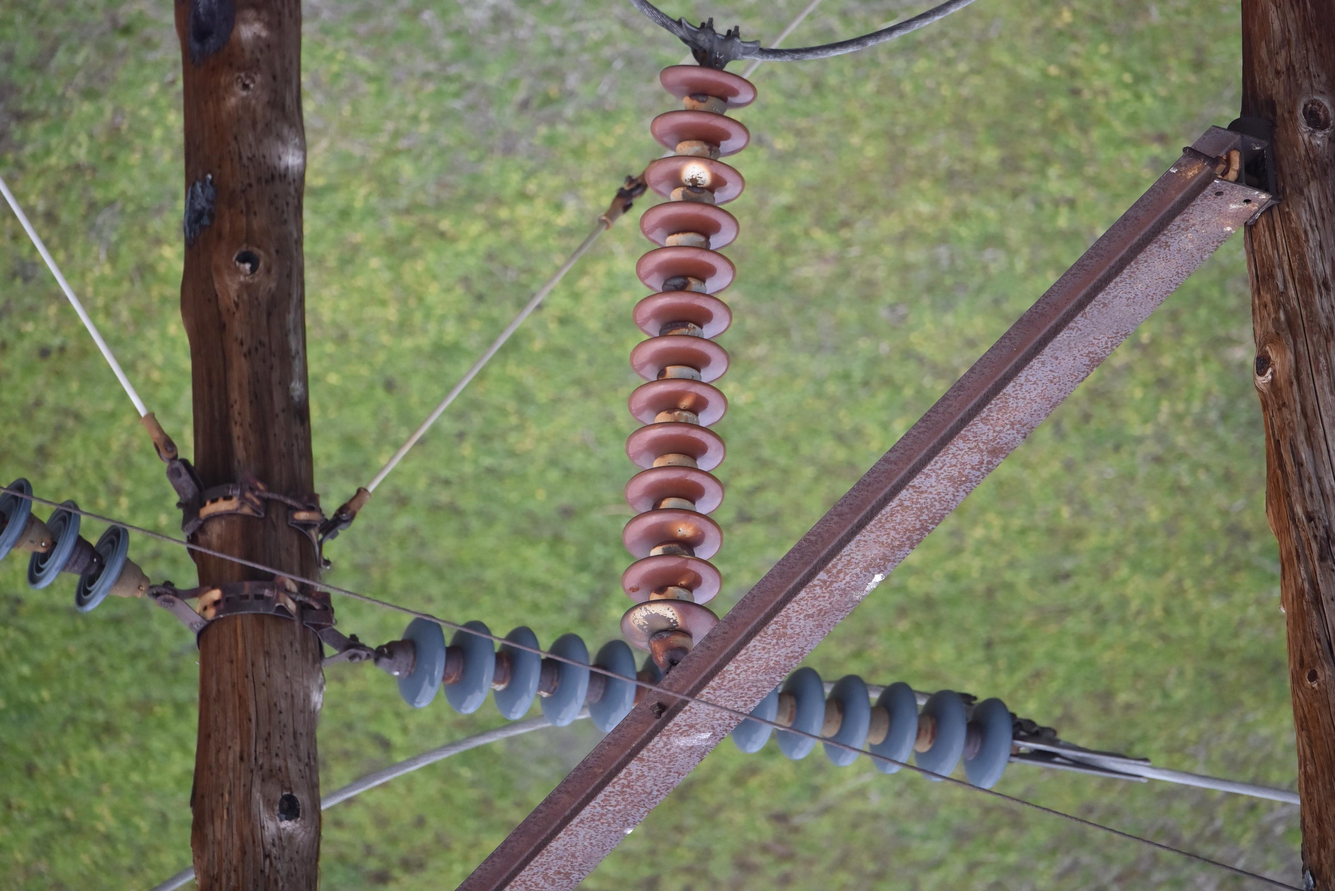Flashover: (633, 602, 686, 640), (680, 160, 716, 193), (673, 520, 700, 542), (679, 389, 696, 412), (677, 572, 697, 590)
insulator: (400, 616, 1007, 785), (617, 63, 757, 655), (0, 474, 133, 616)
